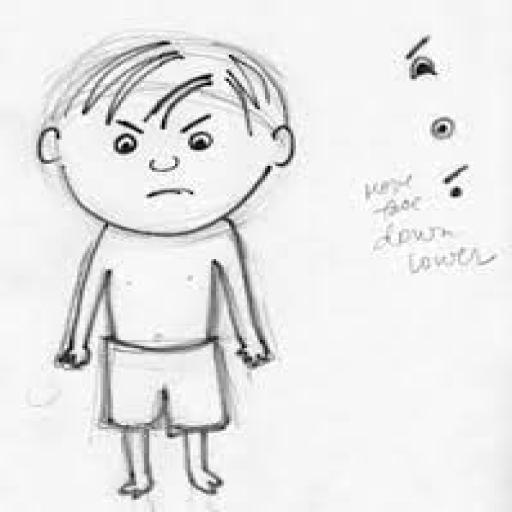person: (15, 24, 320, 510)
